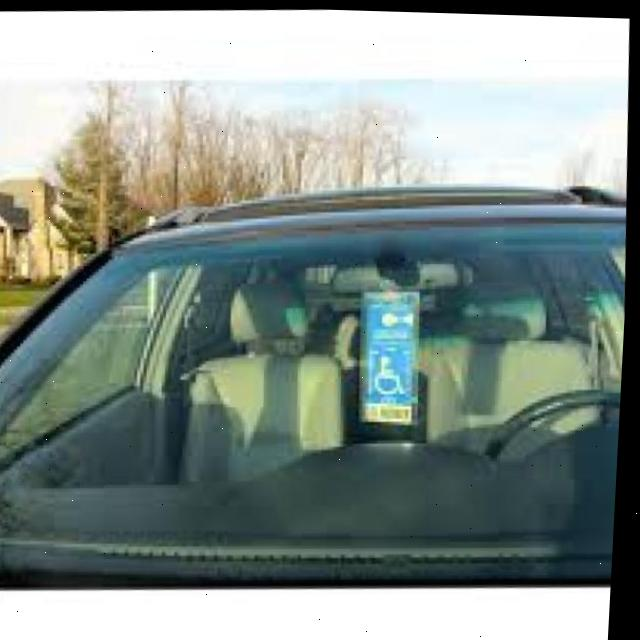symbol_of_access: (376, 348, 410, 397)
